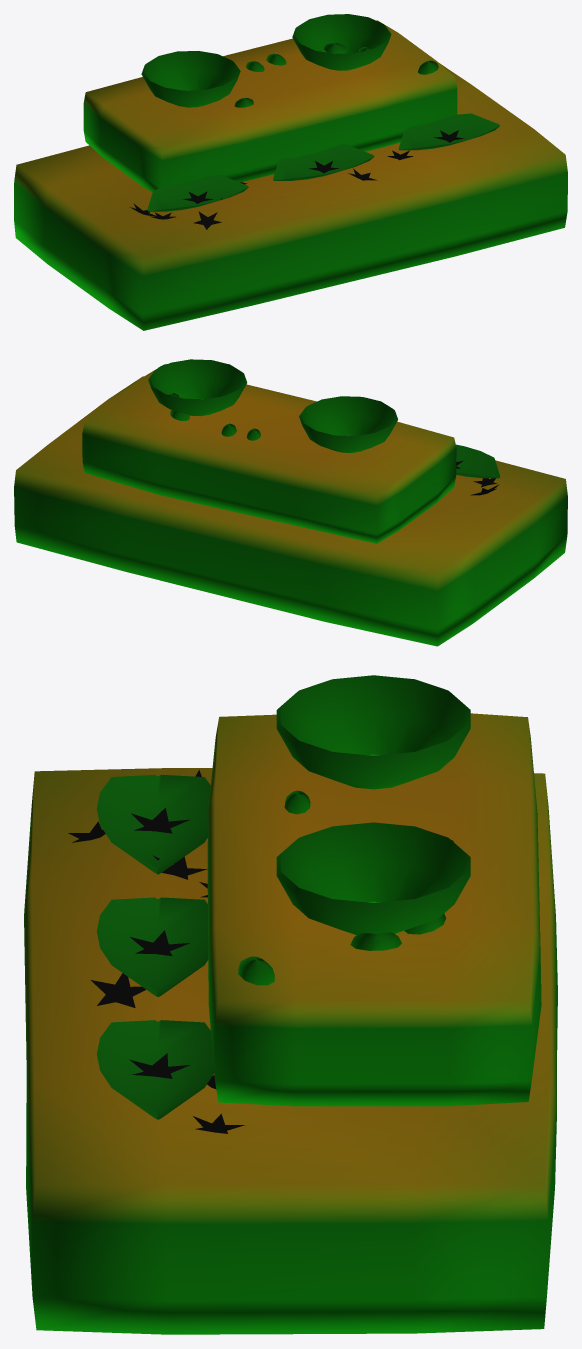
Rendered from offering_step.glb.
The picture shows the model from 3 angles, top to bottom: view 1: azimuth 30°, elevation 25°; view 2: azimuth 150°, elevation 25°; view 3: azimuth 270°, elevation 25°; orthographic projection. The views are drawn at different scales.
Visible parts, largest first — view 1: offering_step; view 2: offering_step; view 3: offering_step.
Boxes of the visible parts, <box> form: offering_step: <box>14,14,567,330</box>; offering_step: <box>14,359,567,646</box>; offering_step: <box>24,675,557,1334</box>.
Size of what is drawn, in the model's own units: 1.2 by 0.4559 by 0.644.
